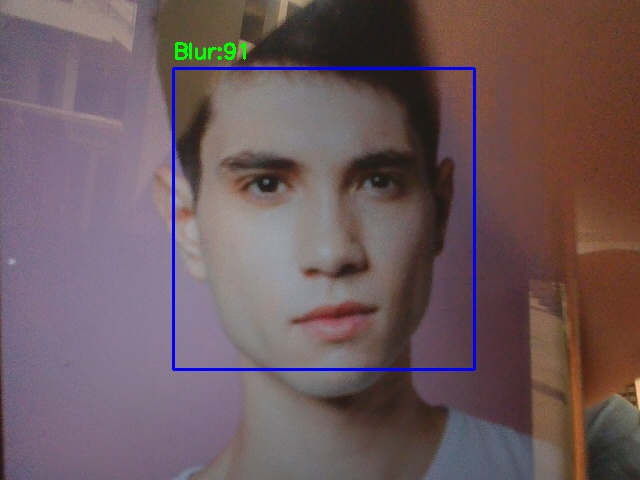fake: (173, 68, 474, 369)
